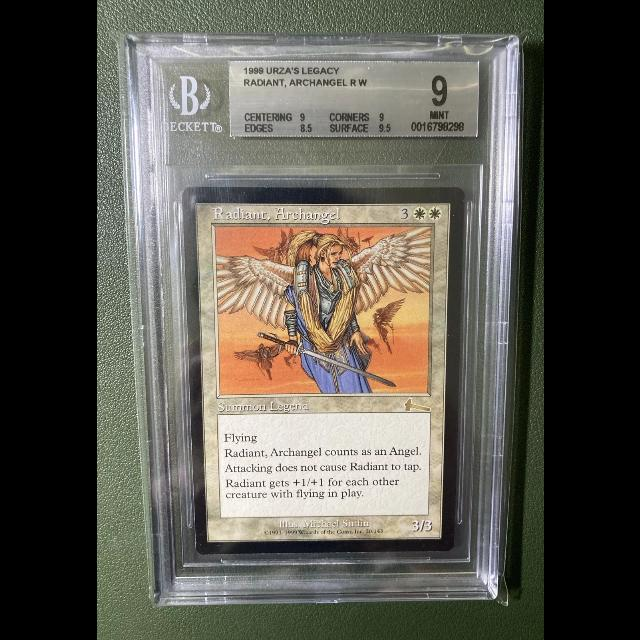bgs_label: (227, 60, 478, 137)
bgs_slab: (118, 33, 520, 606)
card: (180, 185, 466, 555)
